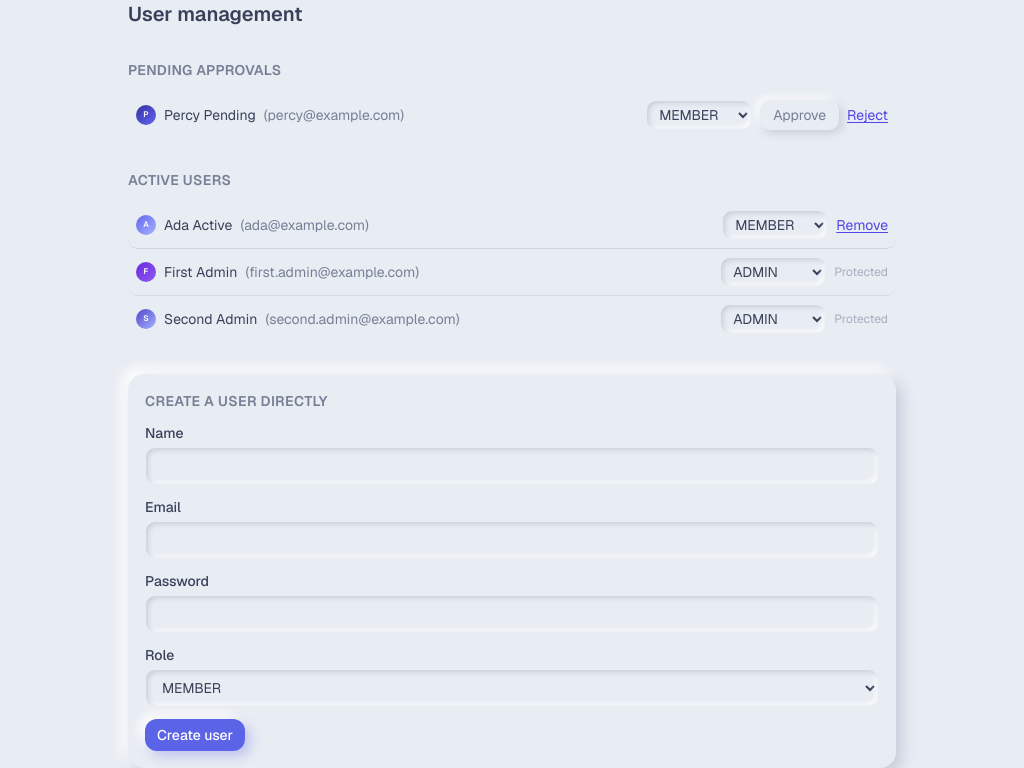
Test case: AdminUsersPage › allows changing an admin's role once a second admin exists
Expected: the text "First Admin" is shown, [164,263,237,281]
Select "MANAGER" in the dropdown named "Role for First Admin" at coordinates (773, 272), box [720,257,826,287]
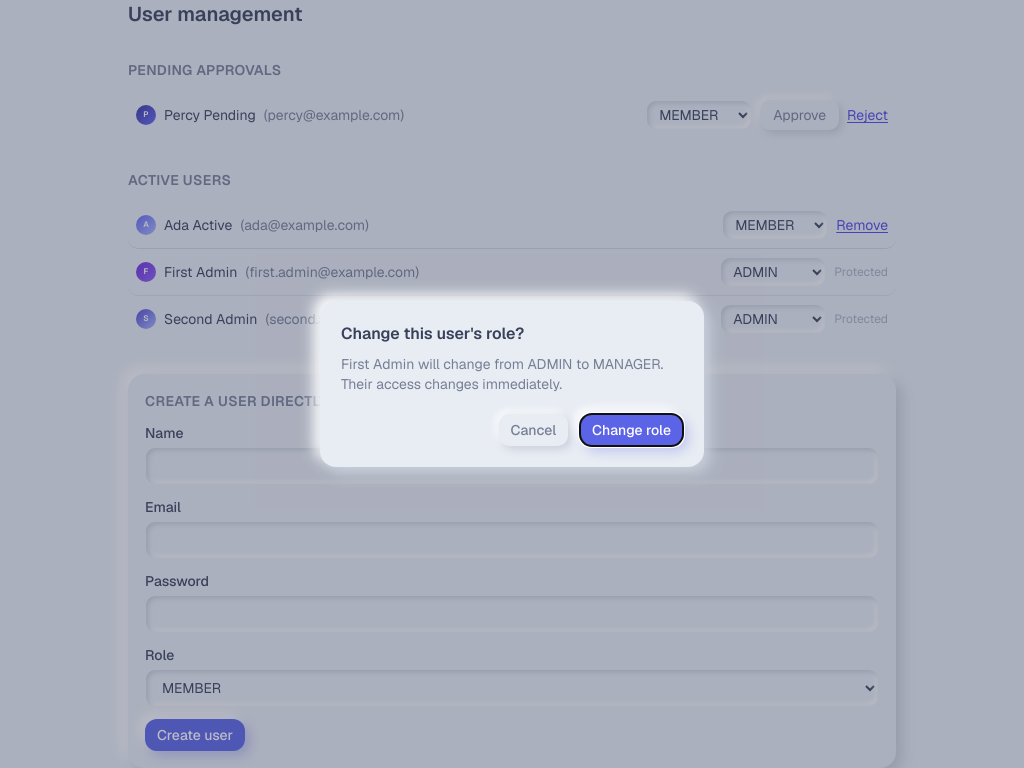
Click the button "Change role".
click(632, 430)  # box [580,414,683,446]
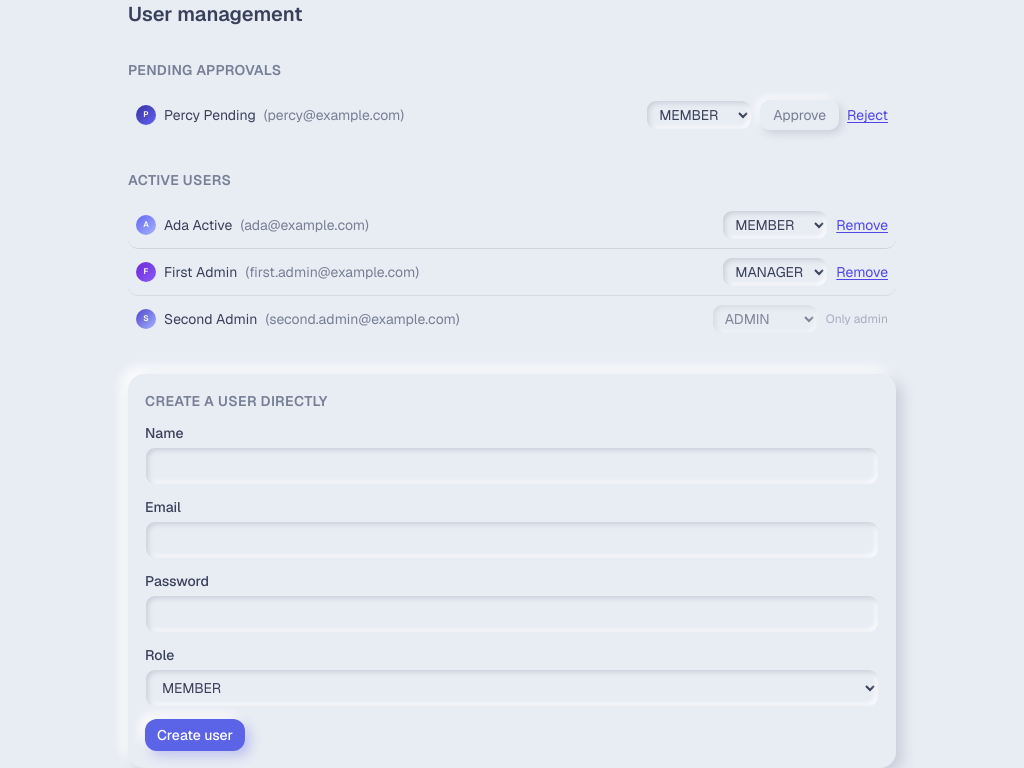
Result: the dialog is gone
